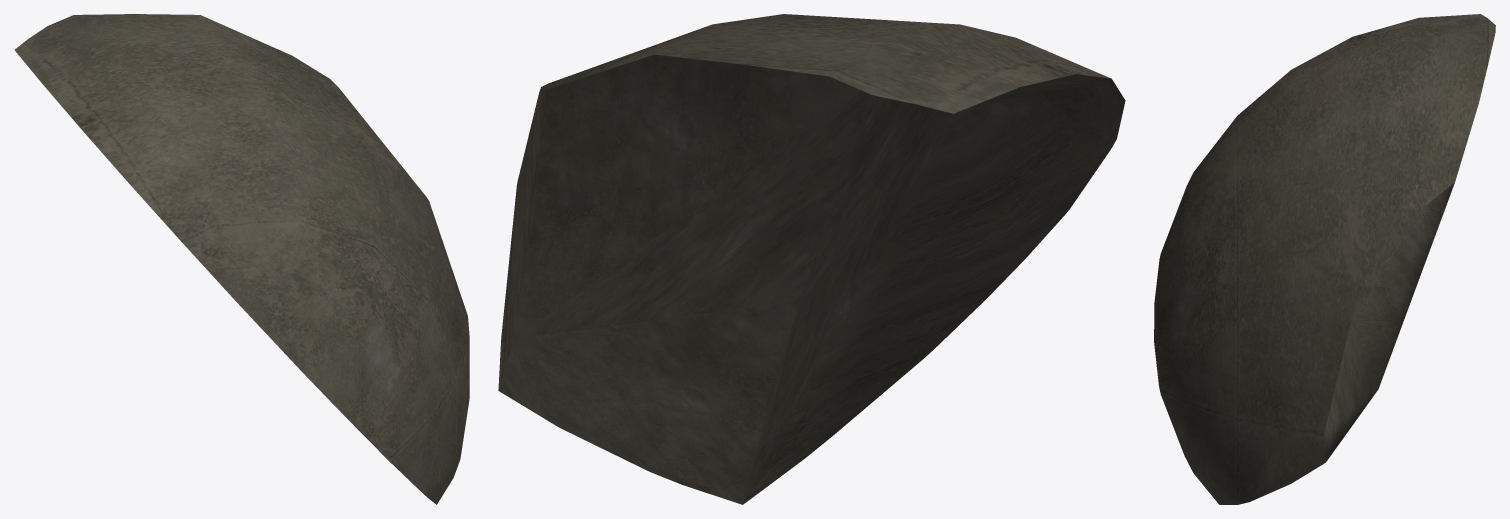
3 views of the same model, side by side, from view 1: azimuth 30°, elevation 25°; view 2: azimuth 150°, elevation 25°; view 3: azimuth 270°, elevation 25° (orthographic). The views are drawn at different scales.
Parts seen in each view (by area): view 1: Sphere_cell.001; view 2: Sphere_cell.001; view 3: Sphere_cell.001.
Part boxes in pixels (box(x1,y1,x2,y2)): Sphere_cell.001: box(14, 14, 469, 504); Sphere_cell.001: box(498, 14, 1125, 504); Sphere_cell.001: box(1154, 14, 1495, 504).
Bounding box in the file's own units: 2.47 × 2.71 × 2.19.
Materials: 1 (1 with a texture image).
